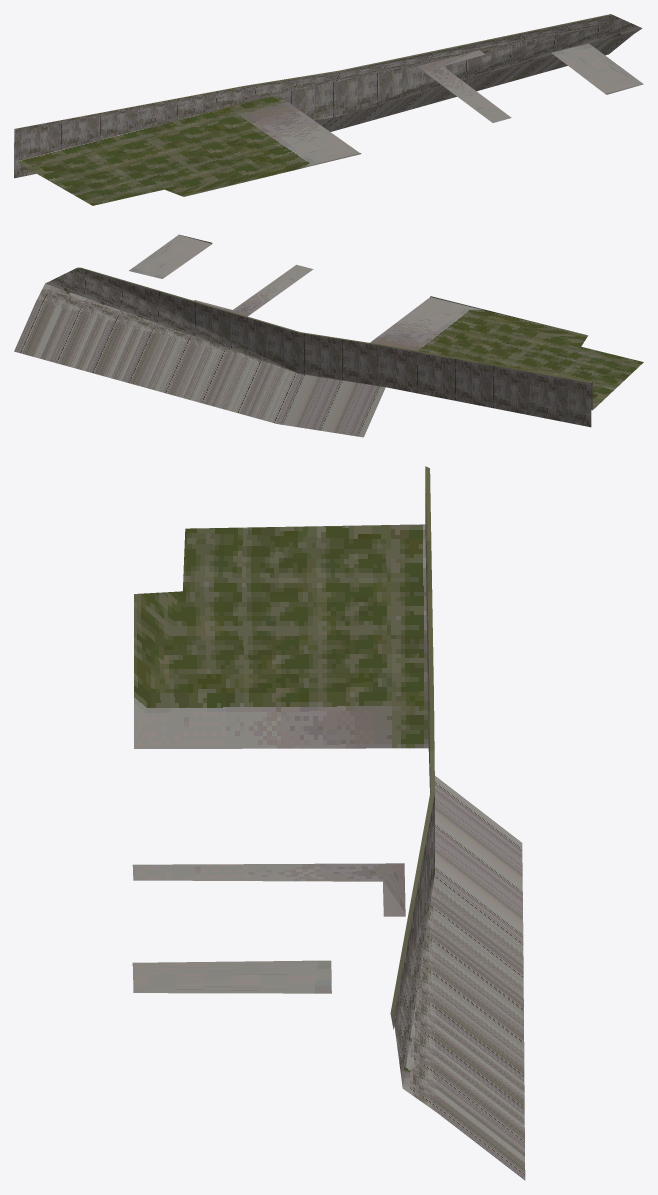
Rendered from lodlae2_lndhub06.obj.
3 views of the same model, one above another, from view 1: azimuth 30°, elevation 25°; view 2: azimuth 150°, elevation 25°; view 3: azimuth 270°, elevation 25° (orthographic). The views are drawn at different scales.
Parts seen in each view (by area): view 1: LODLae2_lndHUB06; view 2: LODLae2_lndHUB06; view 3: LODLae2_lndHUB06.
Part boxes in pixels (<box>): LODLae2_lndHUB06: <box>14,14,643,205</box>; LODLae2_lndHUB06: <box>14,234,643,437</box>; LODLae2_lndHUB06: <box>132,466,525,1180</box>.
Size of the model in its own units: 84.6 by 13.99 by 25.96.
Materials: 1 (1 with a texture image).
